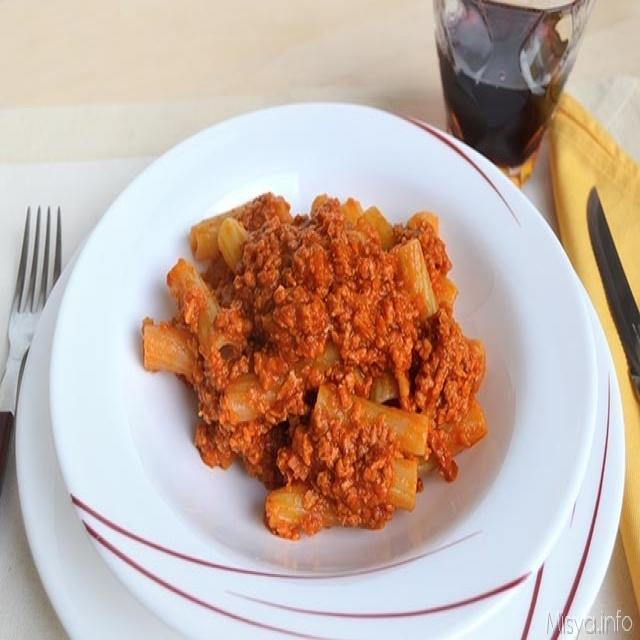Pasta al ragu: (125, 163, 539, 555)
